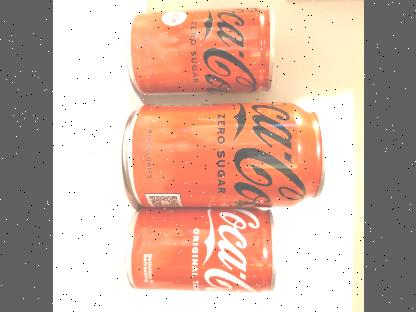Can: (120, 102, 328, 209), (126, 7, 274, 95), (124, 209, 278, 293)
